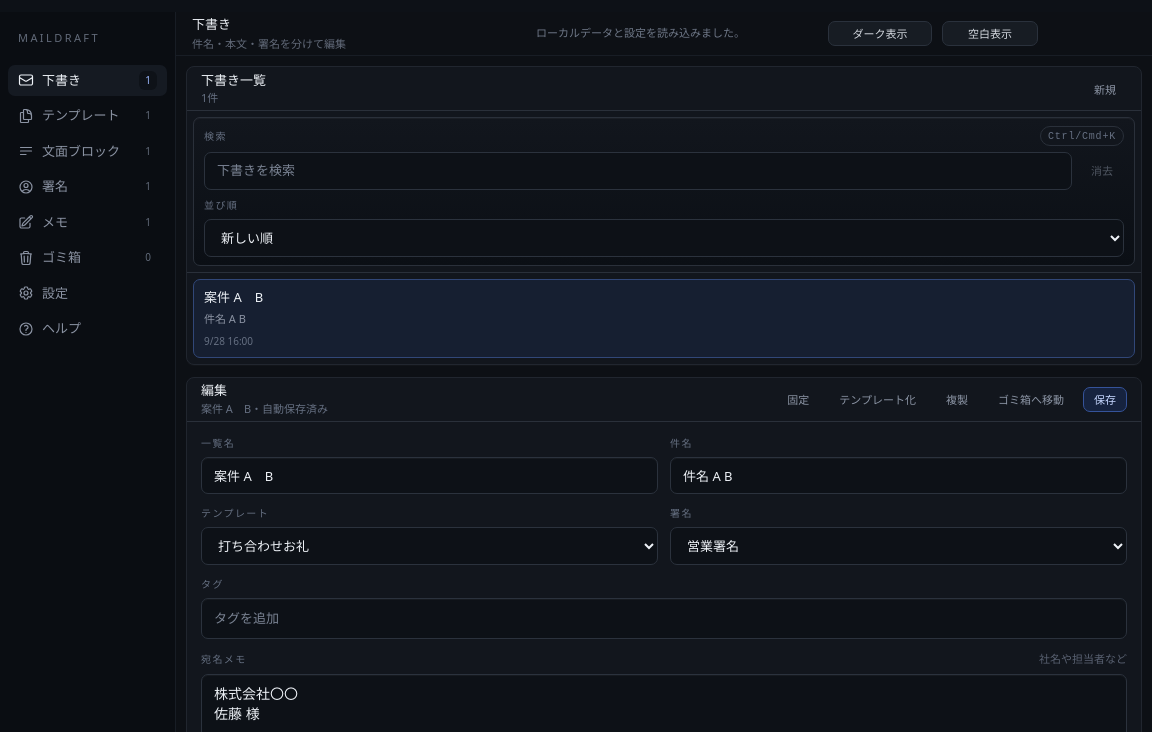
Test: App runtime integration › shows whitespace markers in single-line CodeMirror fields without mutating the draft
Step 1. Click the button "空白表示" → (990,34), box [942, 21, 1038, 46]
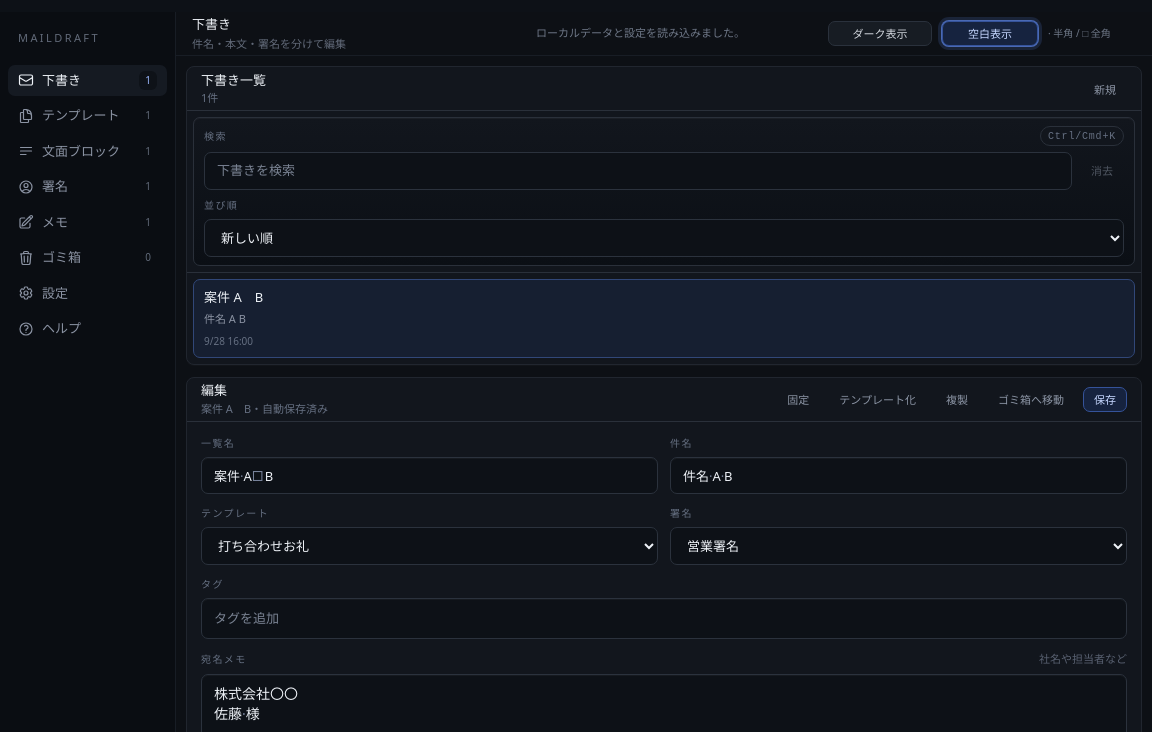
Check: the 1st text box is shown, box [240, 466, 243, 484]
Check: the 2nd text box is shown, box [252, 466, 265, 484]
